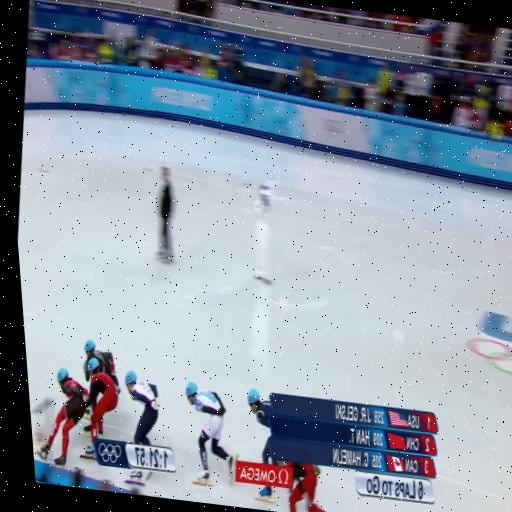Skater: (36, 368, 88, 466), (185, 382, 233, 484), (85, 358, 116, 459), (124, 371, 158, 444), (83, 340, 120, 394), (285, 462, 324, 511), (246, 389, 272, 428)
